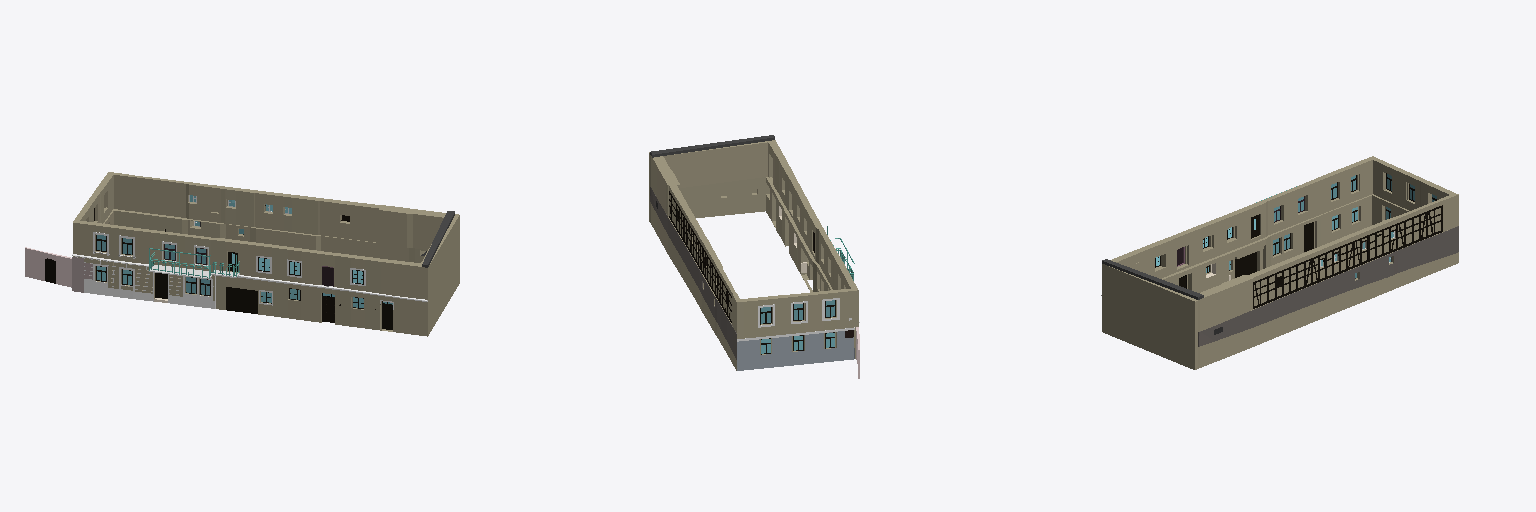
The model's file is obvod.obj.
3 views of the same model, side by side, from view 1: azimuth 30°, elevation 25°; view 2: azimuth 150°, elevation 25°; view 3: azimuth 270°, elevation 25° (orthographic).
Visible parts, largest first — view 1: 3D_obvod_zdi_1NP, 3D_obvod_zdi, 3D_okna_dvere, 3D_fasada, 3D_balkon; view 2: 3D_obvod_zdi_1NP, 3D_obvod_zdi, 3D_fasada, 3D_okna_dvere, 3D_dreveny obklad; view 3: 3D_obvod_zdi_1NP, 3D_obvod_zdi, 3D_fasada, 3D_dreveny obklad, 3D_okna_dvere.
Part boxes in pixels (x1,y1,x2,y2): 3D_obvod_zdi_1NP: (73,172,459,300); 3D_obvod_zdi: (25,209,459,336); 3D_okna_dvere: (45,195,426,329); 3D_fasada: (72,232,427,309); 3D_balkon: (149,248,239,279); 3D_obvod_zdi_1NP: (649,135,858,336); 3D_obvod_zdi: (649,177,859,378); 3D_fasada: (650,187,859,359); 3D_okna_dvere: (656,201,835,354); 3D_dreveny obklad: (669,191,731,322); 3D_obvod_zdi_1NP: (1102,156,1458,335); 3D_obvod_zdi: (1102,194,1458,369); 3D_fasada: (1101,226,1458,346); 3D_dreveny obklad: (1253,205,1442,308); 3D_okna_dvere: (1155,173,1436,334).
Size of the model in its own units: 28.49 by 6.04 by 27.35.